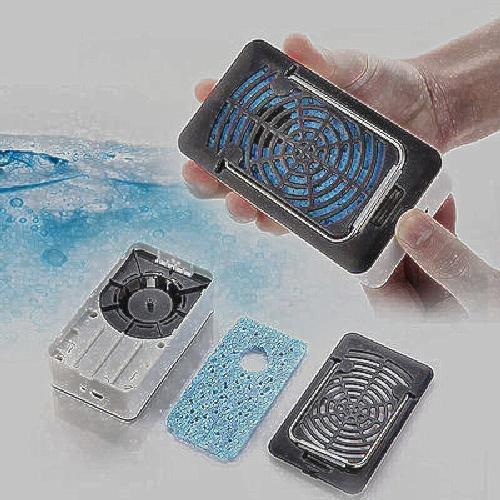fan: (193, 28, 448, 267), (56, 246, 194, 421), (292, 322, 428, 497)
